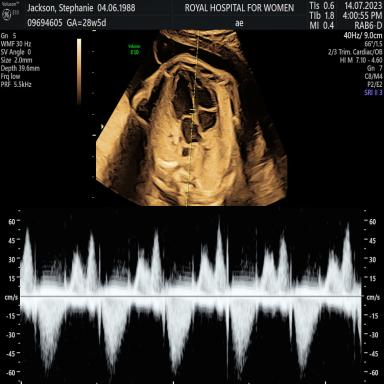Ultrasound-Waves: (24, 212, 359, 384)
